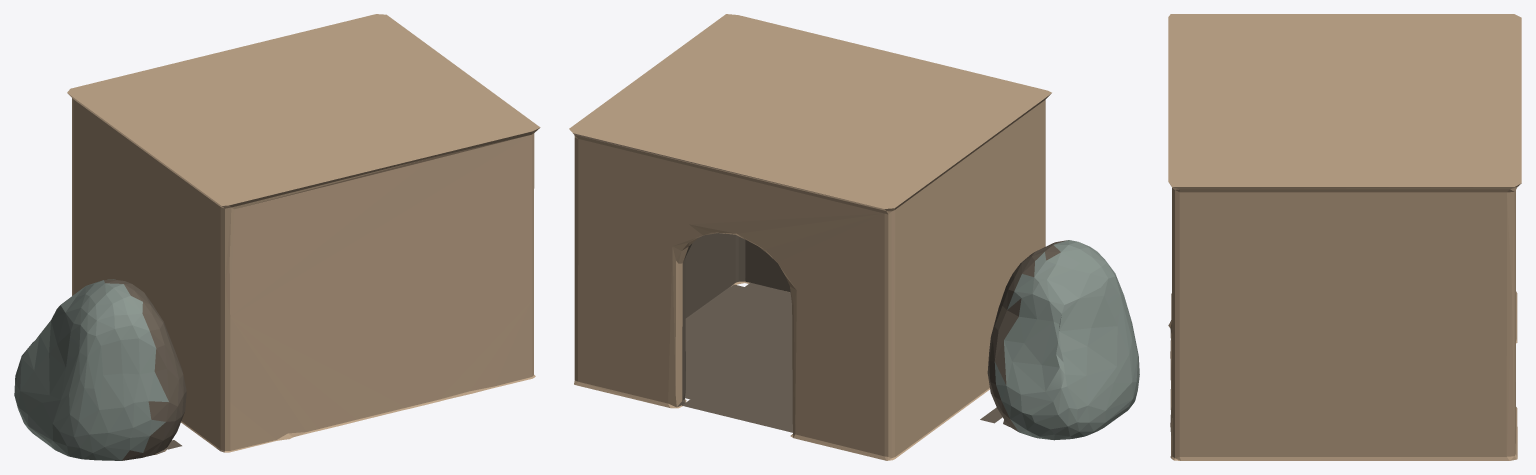
Rendered from etape-1.glb.
3 renders of one model, left to right at view 1: azimuth 30°, elevation 25°; view 2: azimuth 150°, elevation 25°; view 3: azimuth 270°, elevation 25°, orthographic. The views are drawn at different scales.
Visible parts, largest first — view 1: geometry_0; view 2: geometry_0; view 3: geometry_0.
Part boxes in pixels (x1,y1,x2,y2): geometry_0: (14,14,540,460); geometry_0: (569,14,1139,460); geometry_0: (1168,14,1521,460).
Bounding box in the file's own units: 0.9061 × 0.485 × 0.5638.
